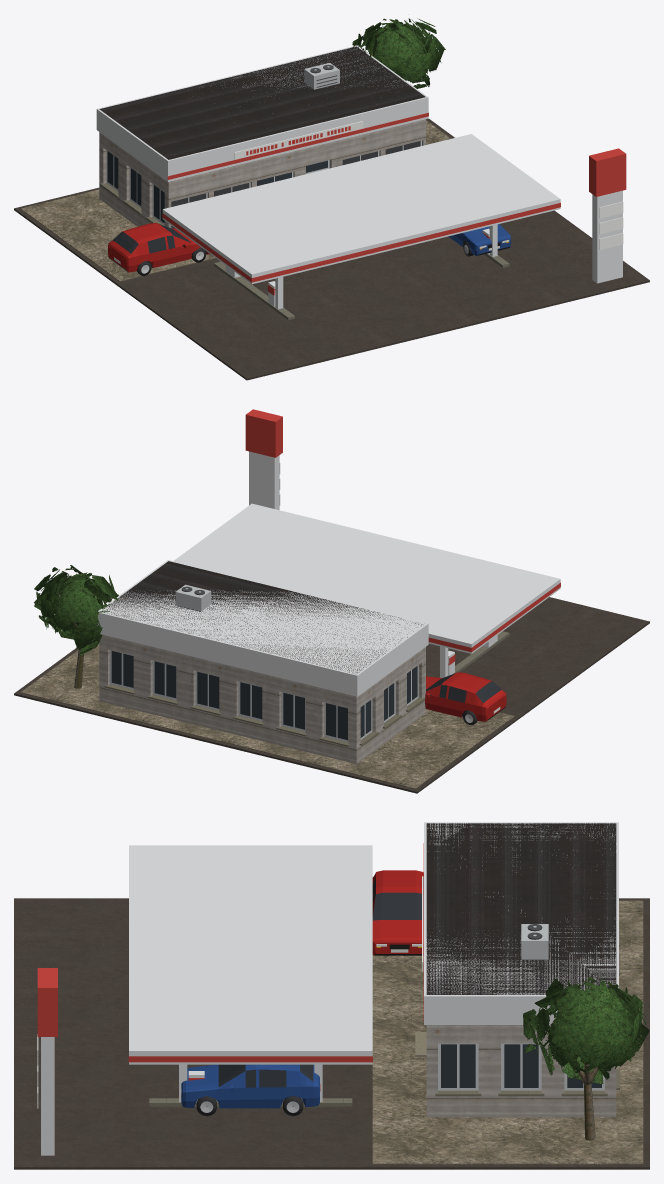
Rendered from mini_mart.glb.
3 views of the same model, one above another, from view 1: azimuth 30°, elevation 25°; view 2: azimuth 150°, elevation 25°; view 3: azimuth 270°, elevation 25° (orthographic). The views are drawn at different scales.
Visible parts, largest first — view 1: mini_mart_body, mini_mart_foliage; view 2: mini_mart_body, mini_mart_foliage; view 3: mini_mart_body, mini_mart_foliage.
Part boxes in pixels (box(x1,y1,x2,y2)): mini_mart_body: box(14, 45, 649, 380); mini_mart_foliage: box(351, 18, 445, 88); mini_mart_body: box(14, 409, 649, 793); mini_mart_foliage: box(34, 565, 118, 655); mini_mart_body: box(14, 822, 649, 1169); mini_mart_foliage: box(523, 974, 649, 1083).
Bounding box in the file's own units: 0.94 × 0.2807 × 0.94.
26 materials, 12 textured.
